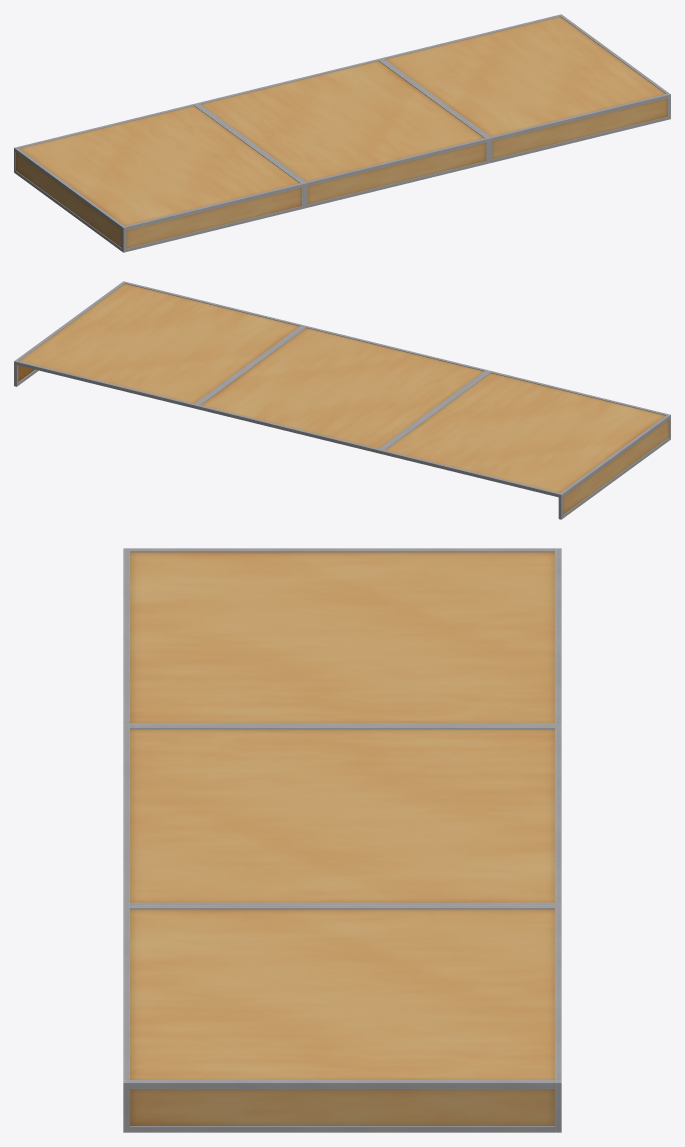
The model's file is jsf_2P_s03_c05_t01_DX.fbx.
The picture shows the model from 3 angles, top to bottom: view 1: azimuth 30°, elevation 25°; view 2: azimuth 150°, elevation 25°; view 3: azimuth 270°, elevation 25°; orthographic projection. The views are drawn at different scales.
Parts seen in each view (by area): view 1: jsf_2P_s03_c05_t01_DX; view 2: jsf_2P_s03_c05_t01_DX; view 3: jsf_2P_s03_c05_t01_DX.
Part boxes in pixels (x1,y1,x2,y2): jsf_2P_s03_c05_t01_DX: (14,14,670,252); jsf_2P_s03_c05_t01_DX: (14,281,670,519); jsf_2P_s03_c05_t01_DX: (123,548,561,1132).
Size of the model in its own units: 289 by 12.51 by 100.
